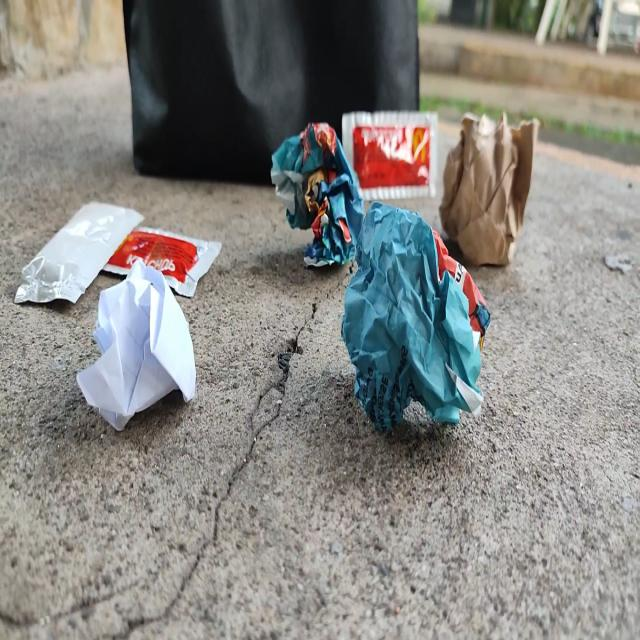paper: (332, 202, 494, 451), (66, 246, 200, 465), (430, 104, 546, 267), (269, 110, 359, 279)
